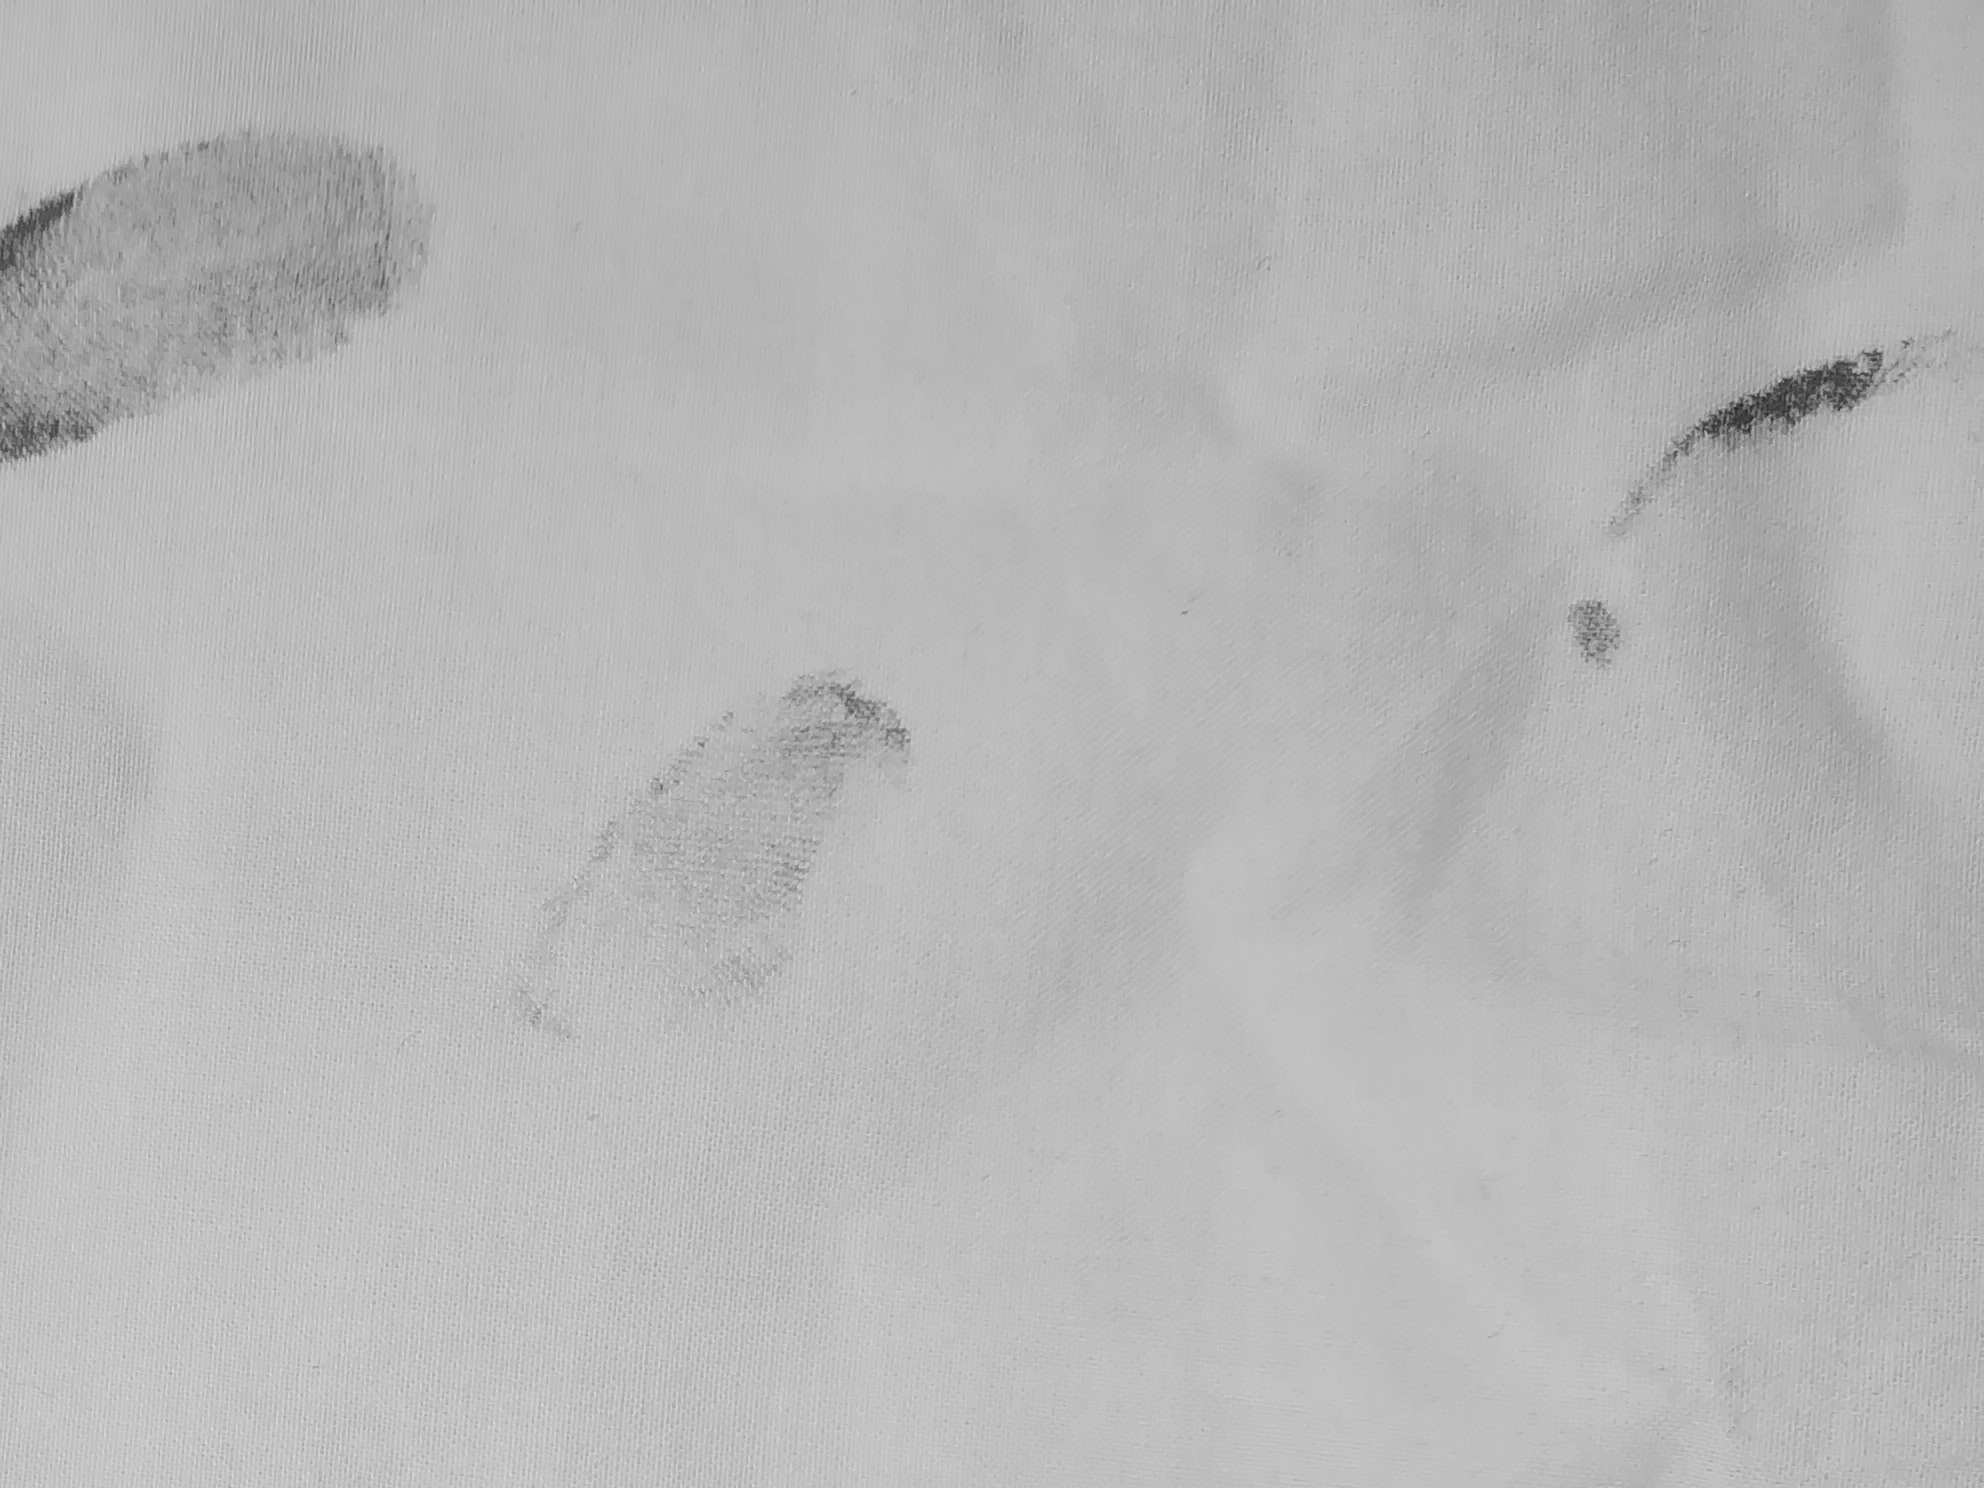Stain: (441, 574, 1014, 1082), (2, 55, 501, 514), (1451, 184, 1984, 563), (1498, 581, 1731, 731)
